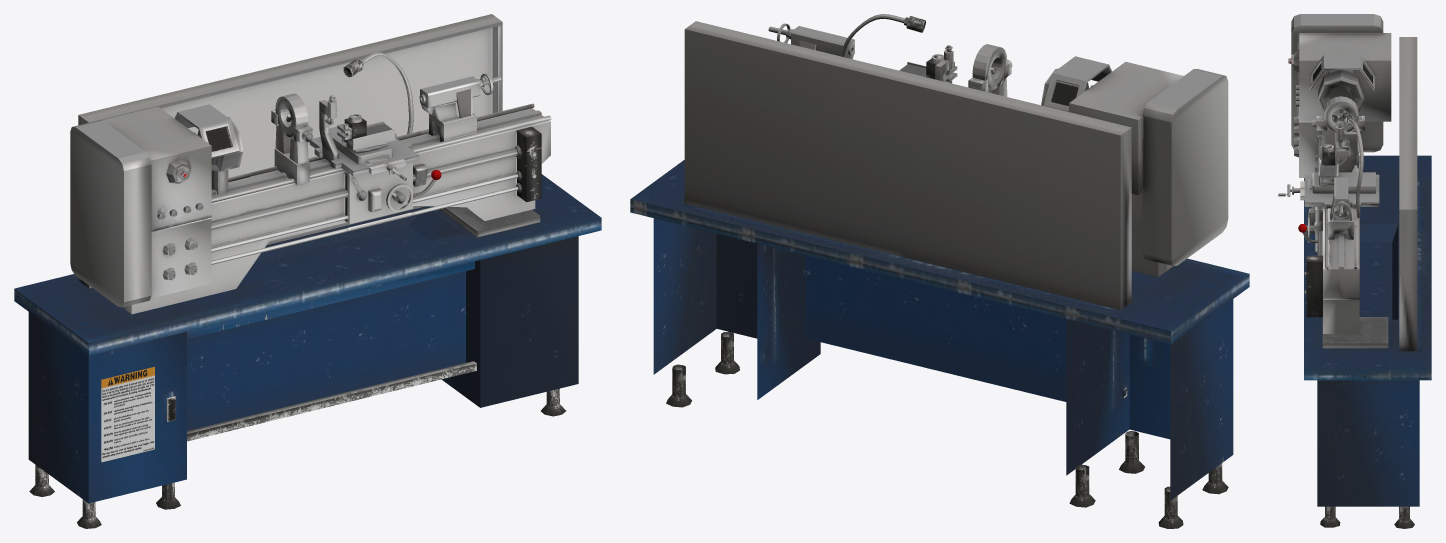
Rendered from MetalLathe_AAndino.fbx.
The picture shows the model from 3 angles, left to right: view 1: azimuth 30°, elevation 25°; view 2: azimuth 150°, elevation 25°; view 3: azimuth 270°, elevation 25°; orthographic projection. The views are drawn at different scales.
Parts seen in each view (by area): view 1: persp3; view 2: persp3; view 3: persp3.
Part boxes in pixels (left/top/right/bottom): persp3: left=14, top=14, right=601, bottom=528; persp3: left=630, top=14, right=1249, bottom=528; persp3: left=1278, top=14, right=1431, bottom=528.
Size of the model in its own units: 16.43 by 11.87 by 4.97.
3 materials, 2 textured.
